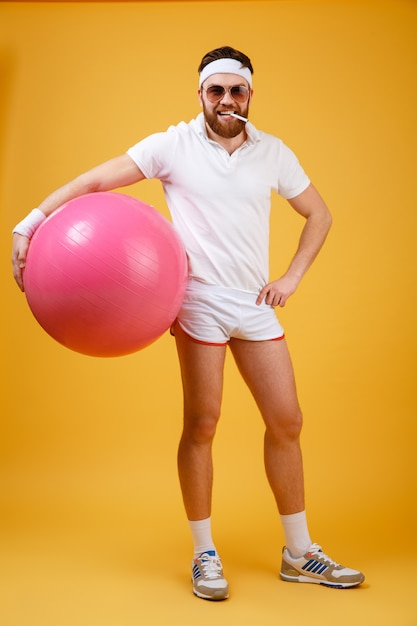cigarette: (229, 111, 248, 123)
